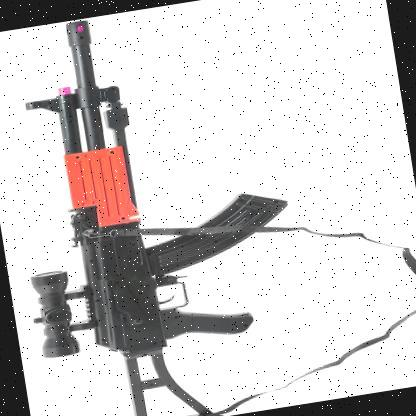rifle: (0, 0, 322, 416)
